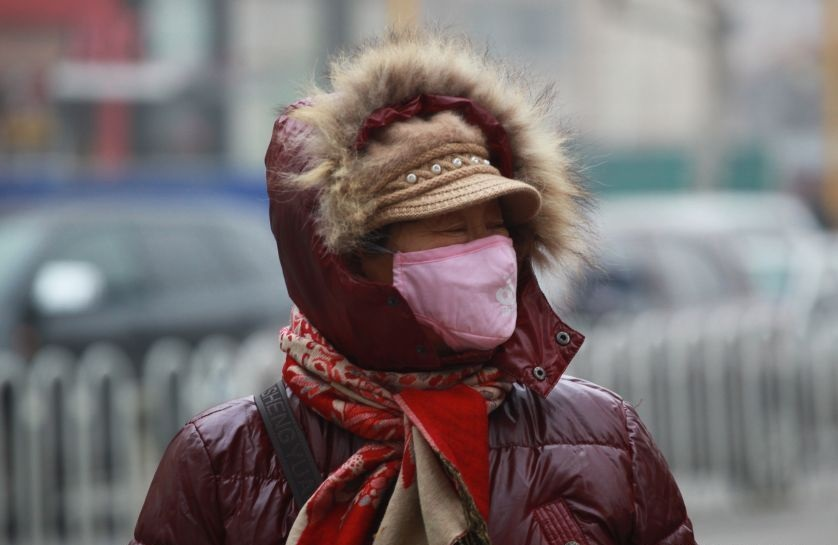face_mask: (397, 184, 532, 345)
